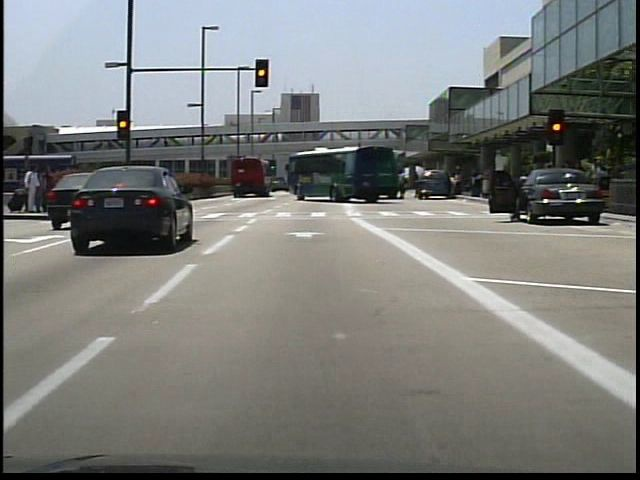person: (506, 171, 532, 224), (24, 162, 41, 214), (445, 169, 456, 198)
